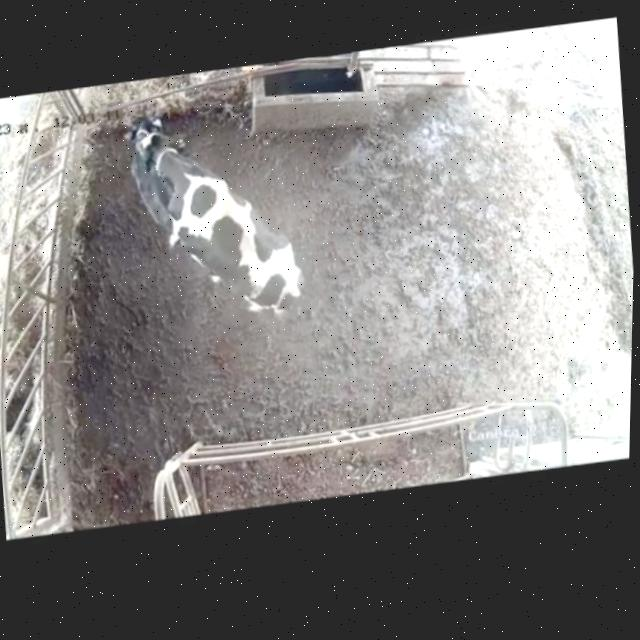ride: (130, 115, 327, 346)
stand: (100, 108, 207, 257)
